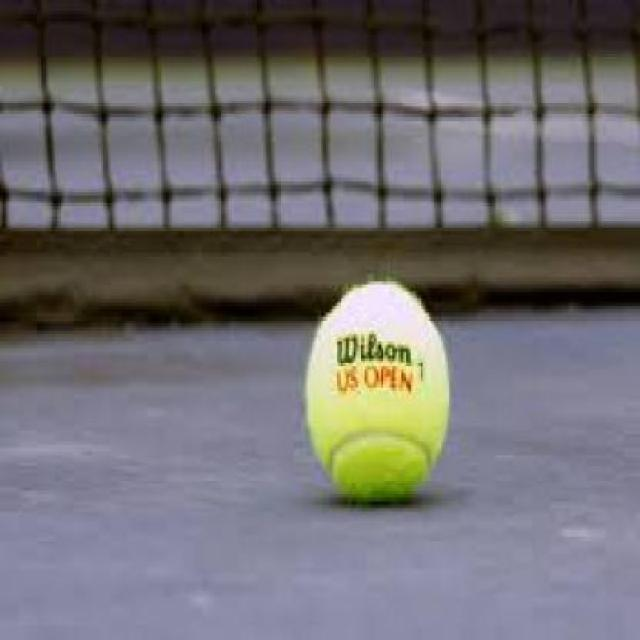Tennis-Ball: (306, 282, 451, 505)
